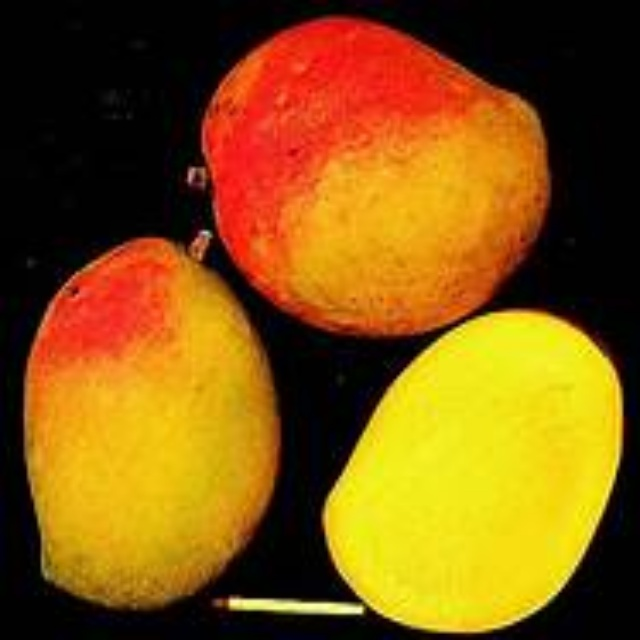mango: (313, 305, 628, 634), (202, 21, 544, 320), (20, 234, 280, 610)
